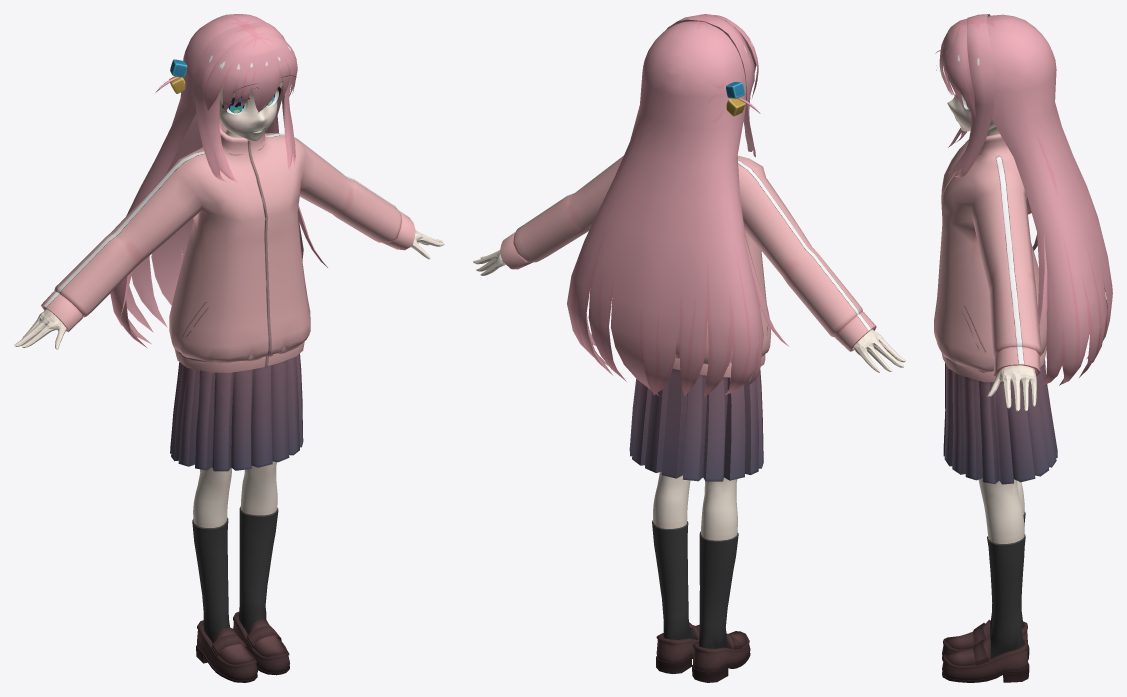
The picture shows the model from 3 angles, left to right: view 1: azimuth 30°, elevation 25°; view 2: azimuth 150°, elevation 25°; view 3: azimuth 270°, elevation 25°; orthographic projection.
Parts seen in each view (by area): view 1: 头发 服饰, 身体; view 2: 头发 服饰, 身体; view 3: 头发 服饰, 身体.
Part boxes in pixels (x1,y1,x2,y2): 头发 服饰: [41, 14, 415, 682]; 身体: [14, 73, 444, 643]; 头发 服饰: [500, 14, 876, 682]; 身体: [473, 250, 905, 648]; 头发 服饰: [934, 14, 1112, 682]; 身体: [947, 91, 1036, 658].
Size of the model in its own units: 175 by 250 by 62.46.
Materials: 3 (3 with a texture image).
